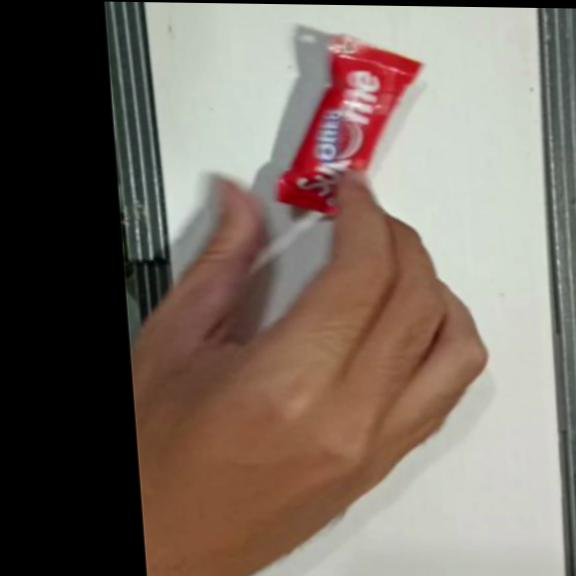Plastik: (261, 34, 433, 219)
